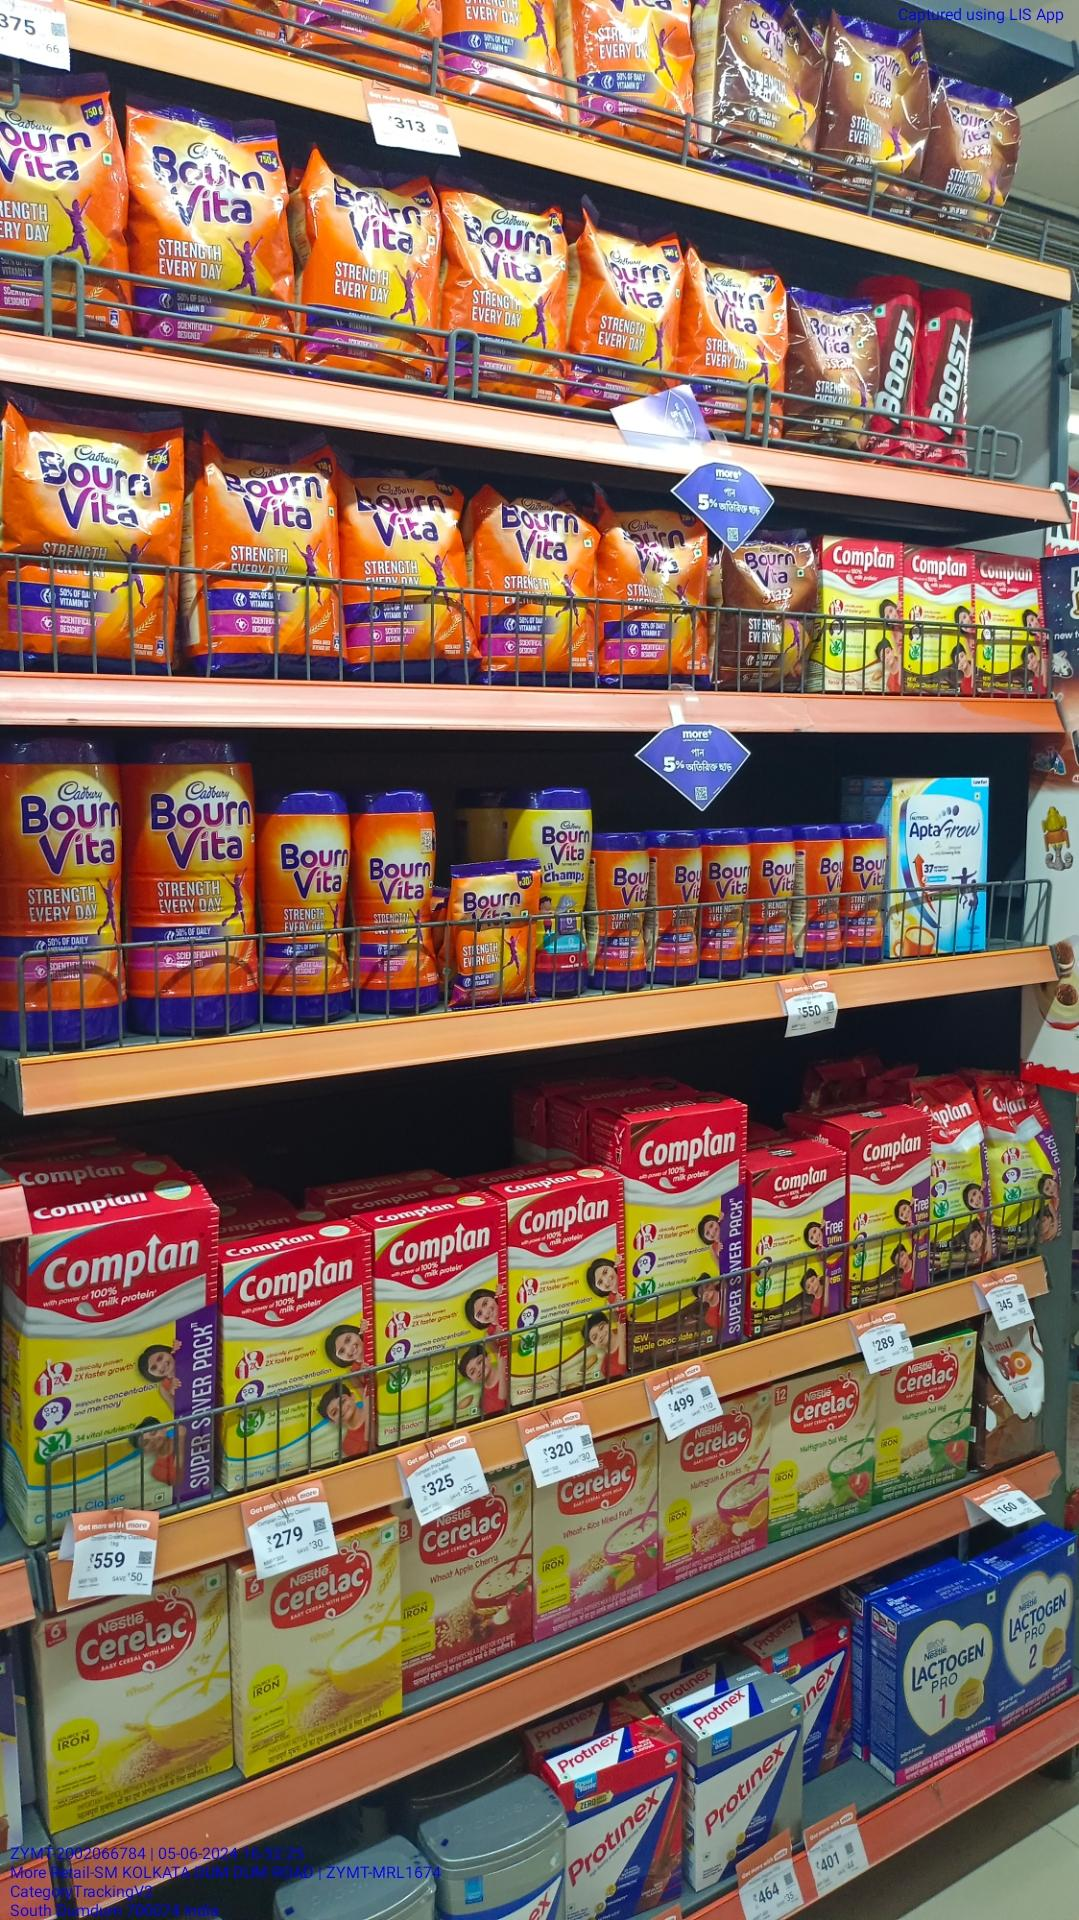BOURN_VITA_1_KG_JAR: (3, 736, 127, 1048), (135, 735, 260, 1039)
BOURN_VITA_200_G_JAR: (650, 835, 703, 982), (596, 835, 645, 990), (798, 824, 844, 968), (751, 827, 795, 973), (707, 828, 748, 977), (846, 825, 885, 963)
BOURN_VITA_500_G_JAR: (268, 786, 357, 1029), (363, 789, 439, 1013)
BOURN_VITA_500_G_POUCH: (931, 80, 1005, 235)
BOURN_VITA_750_G_POUCH: (5, 390, 186, 673), (131, 117, 286, 364), (198, 423, 346, 683), (309, 150, 439, 377), (3, 71, 111, 339), (446, 177, 570, 407), (478, 479, 604, 688), (351, 464, 472, 682), (824, 16, 922, 214), (714, 0, 818, 183), (609, 508, 715, 686), (689, 251, 785, 442), (578, 218, 679, 382)
BOURN_VITA_75_G_POUCH: (456, 864, 524, 1006)
BOURN_VITA_CHAMPS_500_G_JAR: (530, 790, 592, 996)
BOURN_VITA_FIVE_STAR_MAGIC_500_G_POUCH: (723, 549, 817, 691), (793, 287, 869, 454)
COMPLAN_CREAMY_CLASSIC_500_G_PACK: (223, 1262, 371, 1474)
COMPLAN_PISTA_BADAM_500_GMS_PACK: (379, 1225, 507, 1425)
